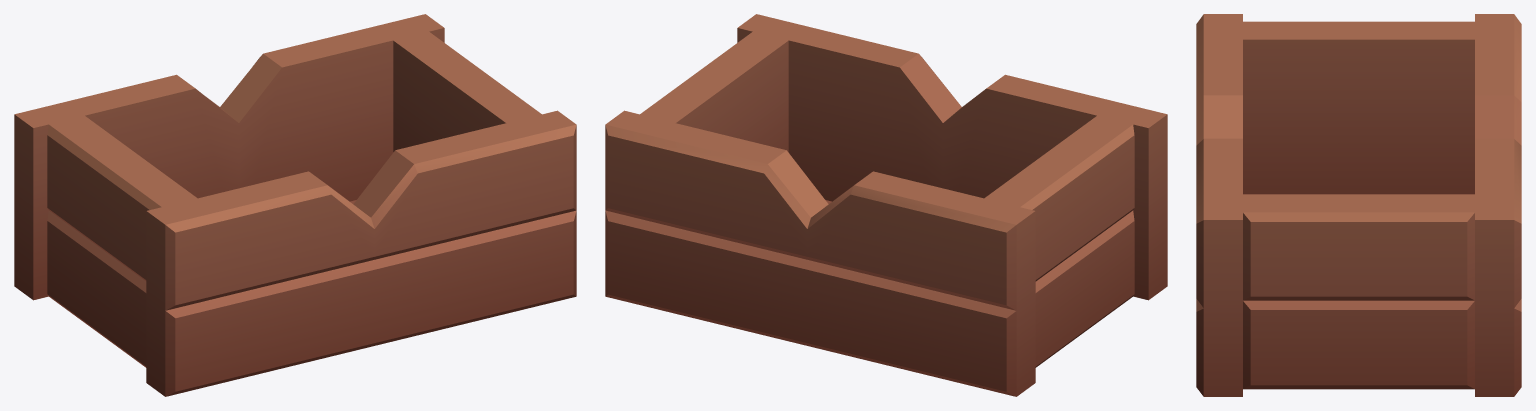
Rendered from crate_small.glb.
The picture shows the model from 3 angles, left to right: view 1: azimuth 30°, elevation 25°; view 2: azimuth 150°, elevation 25°; view 3: azimuth 270°, elevation 25°; orthographic projection. The views are drawn at different scales.
Visible parts, largest first — view 1: crate_small; view 2: crate_small; view 3: crate_small.
Part boxes in pixels (x1,y1,x2,y2): crate_small: [14, 14, 576, 396]; crate_small: [605, 14, 1167, 396]; crate_small: [1196, 14, 1521, 396].
Bounding box in the file's own units: 1.5 × 0.6 × 1.
Materials: 1 (1 with a texture image).
